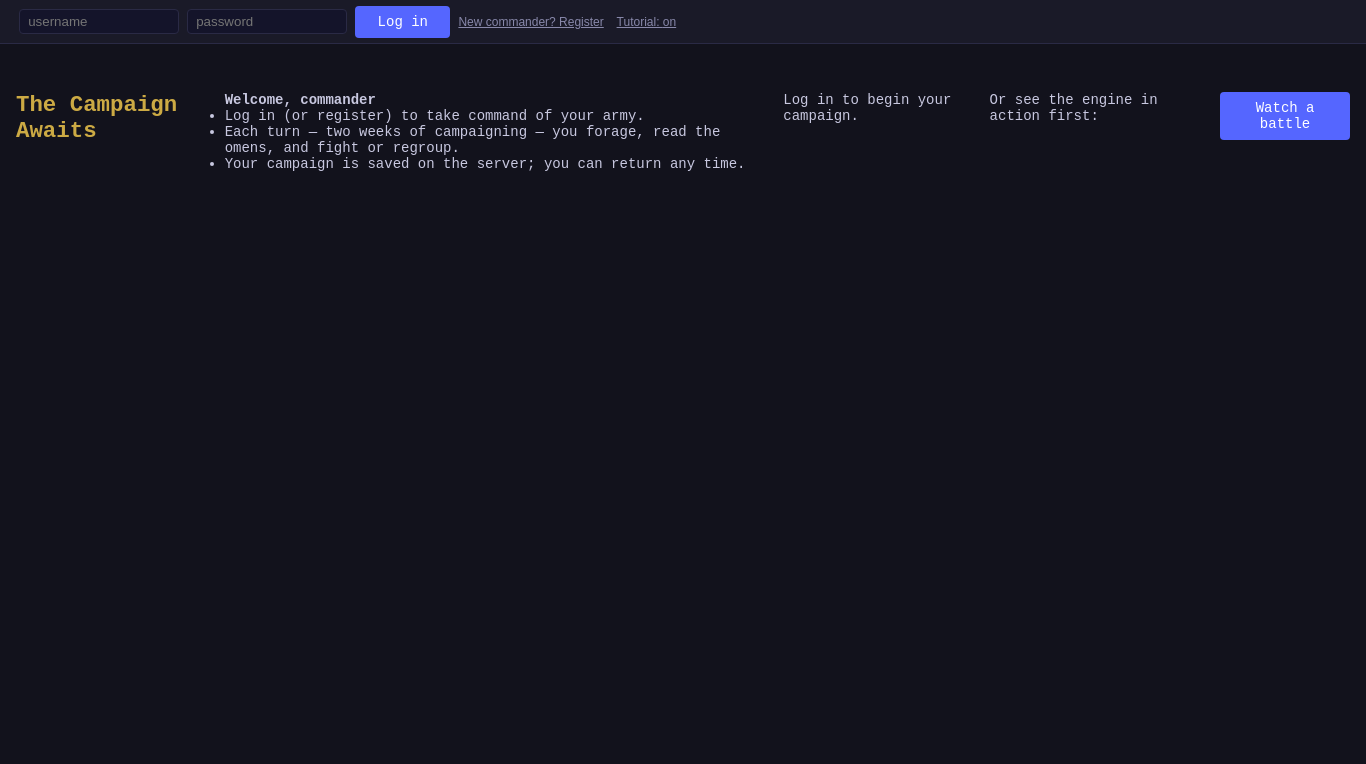
it: App auth state › login stores the session, sets the token, and loads the campaign
expect the heading "The Campaign Awaits" is shown: met, box [16,92,201,144]
Type "tonttu" into the field with test id "login-username". click: (99, 22)
box: [19,9,179,34]
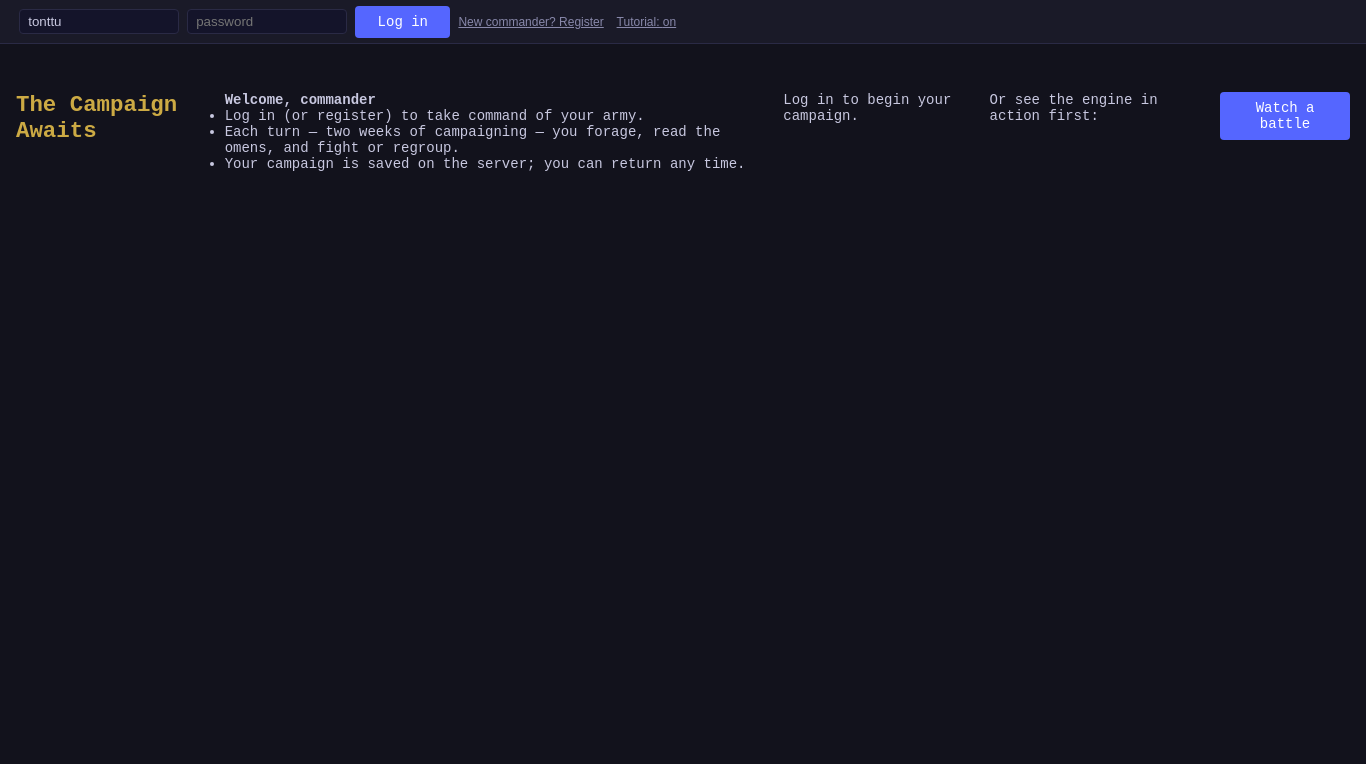
Type "salainen" into the password field with test id "login-password". click: (267, 22)
box: [187,9,347,34]
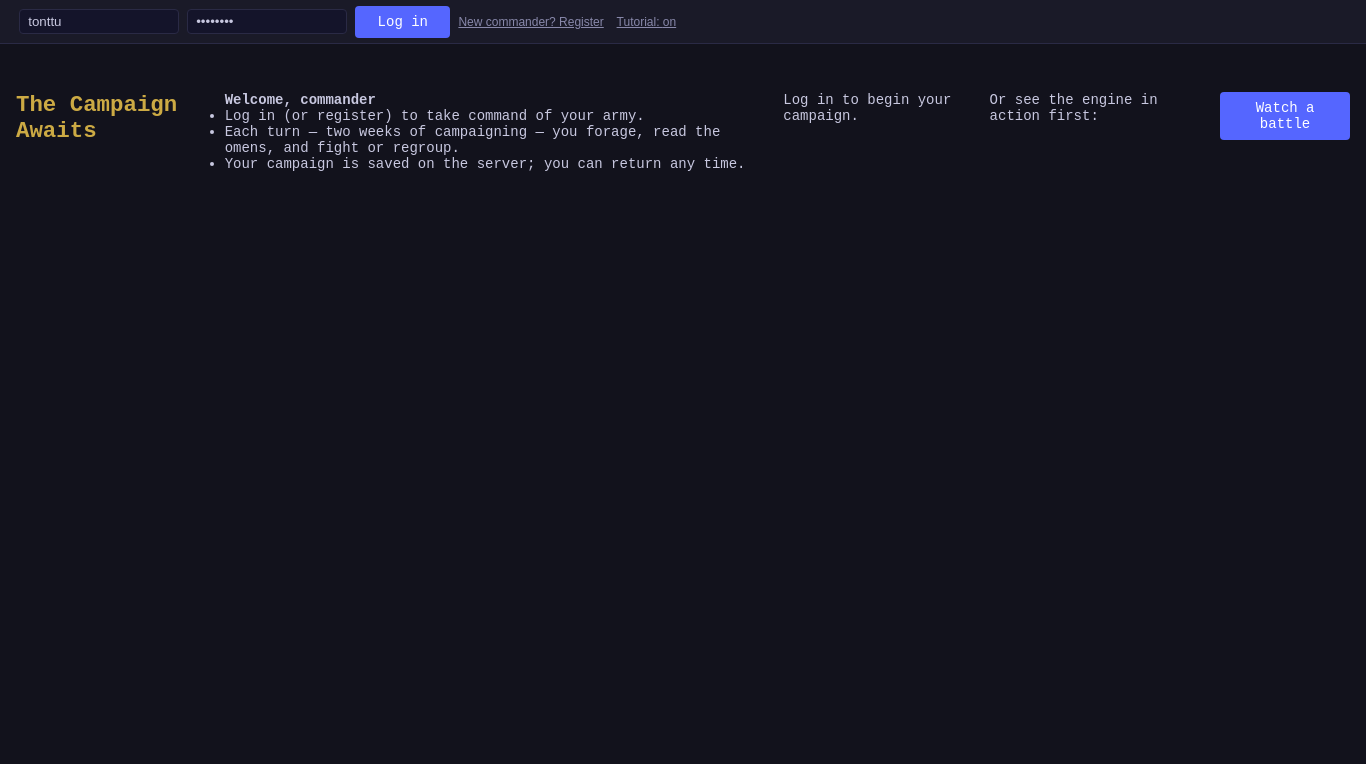
Click the button with test id "login-submit". click: (403, 22)
box: [355,6,450,38]
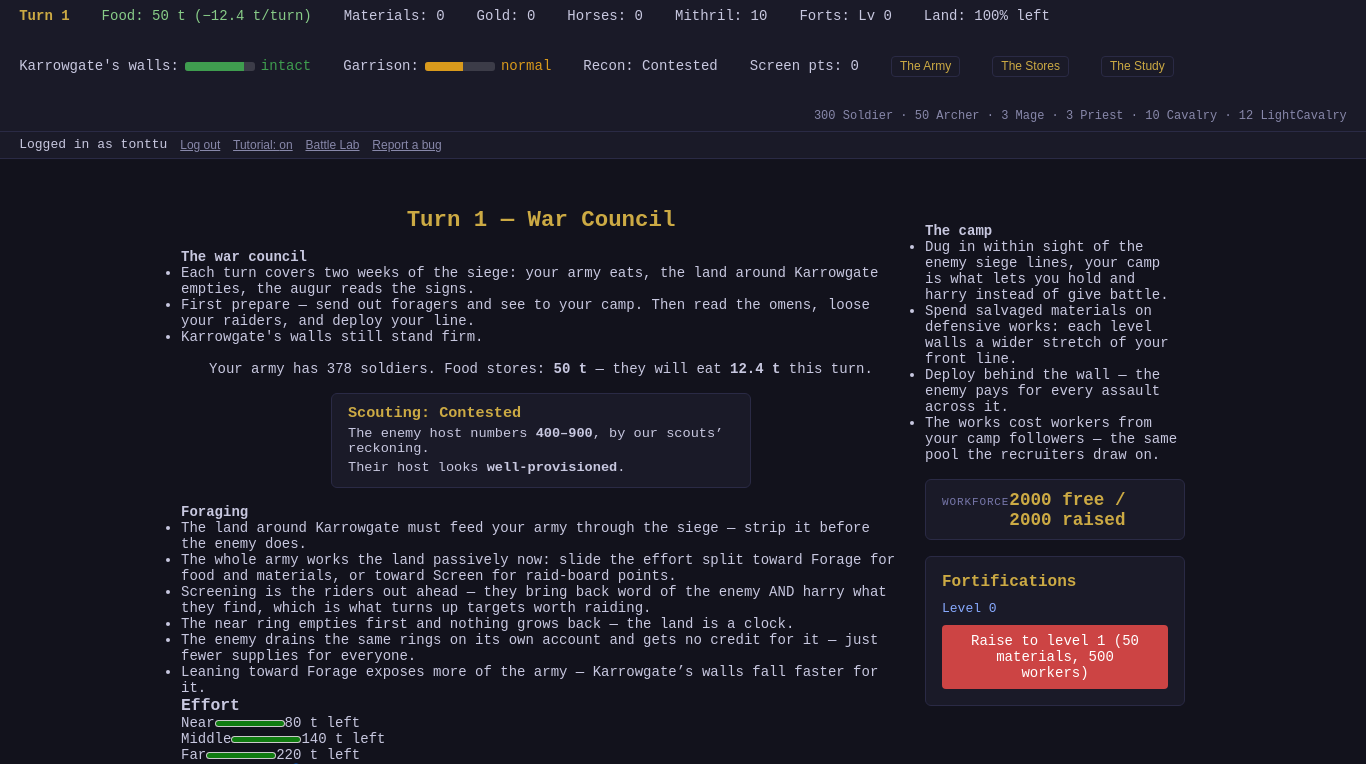
expect the text with test id "auth-username" reads "Logged in as tonttu": met, box [19,137,167,152]
expect the heading "Turn 1 — War Council" is shown: met, box [407,207,675,233]
